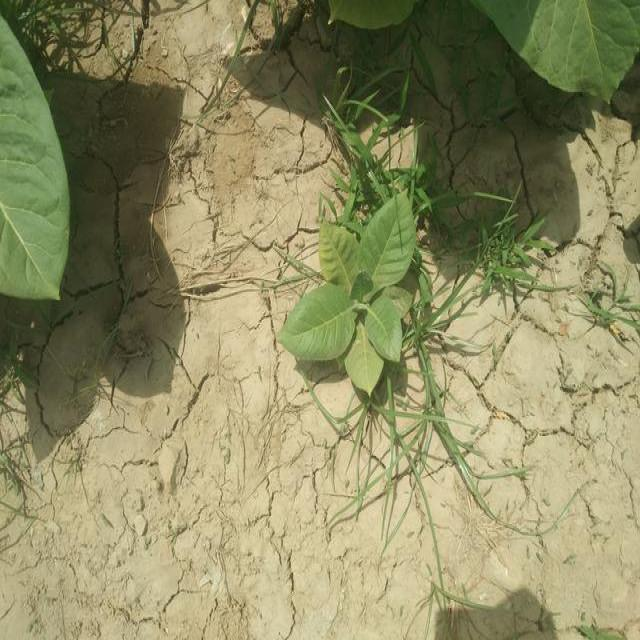crop: (284, 194, 416, 395), (2, 18, 65, 303), (481, 3, 640, 105)
